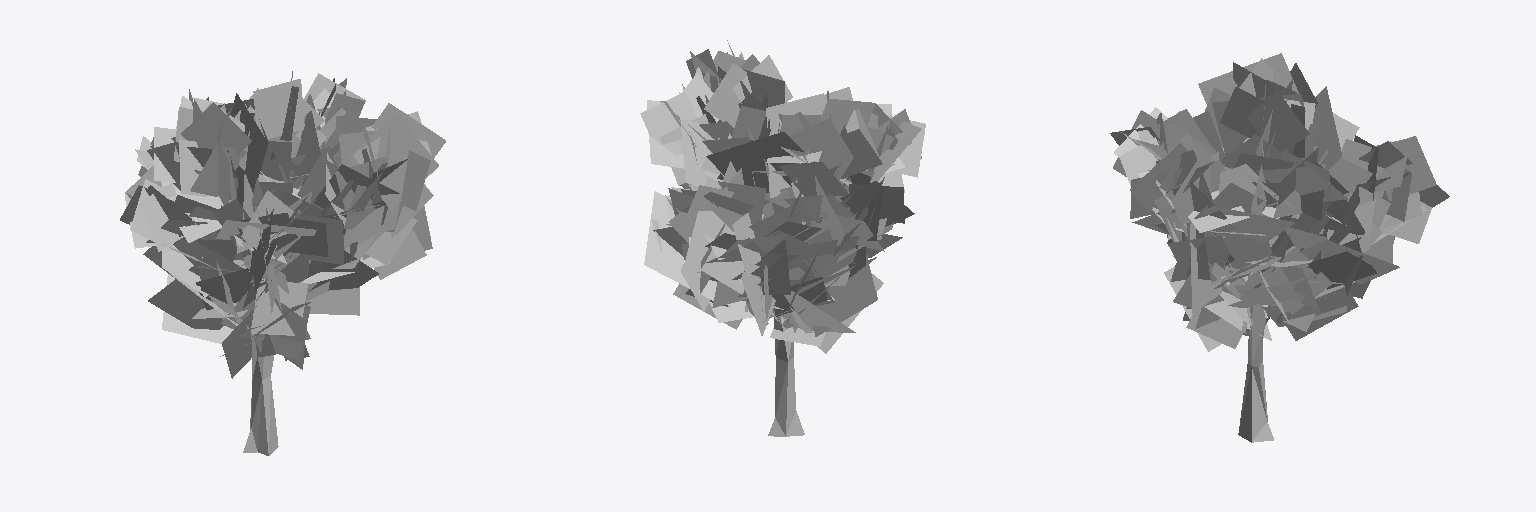
File: tree_01_f_lod1.obj
The picture shows the model from 3 angles: view 1: azimuth 30°, elevation 25°; view 2: azimuth 150°, elevation 25°; view 3: azimuth 270°, elevation 25°; orthographic projection.
Parts seen in each view (by area): view 1: tree_01_f_lod1; view 2: tree_01_f_lod1; view 3: tree_01_f_lod1.
Boxes of the visible parts, box(x1,y1,x2,y2) form: tree_01_f_lod1: box(120, 71, 445, 455); tree_01_f_lod1: box(640, 40, 925, 436); tree_01_f_lod1: box(1110, 53, 1449, 442).
Size of the model in its own units: 295 by 378 by 319.